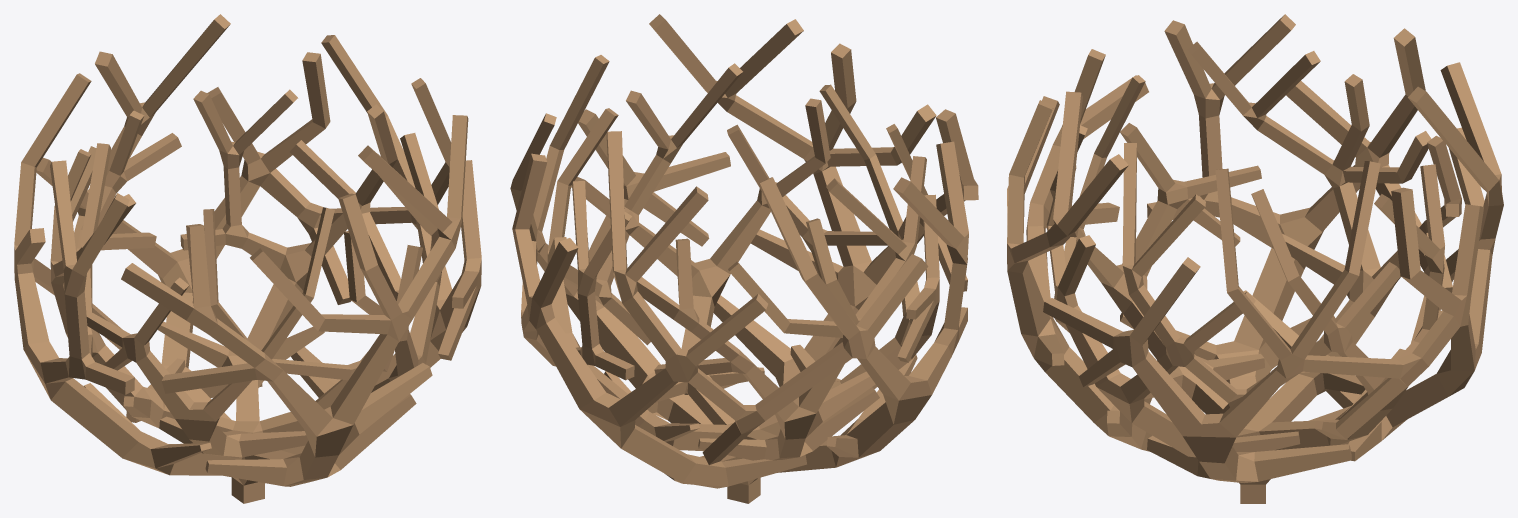
File: tumbleweed.glb
3 views of the same model, side by side, from view 1: azimuth 30°, elevation 25°; view 2: azimuth 150°, elevation 25°; view 3: azimuth 270°, elevation 25° (orthographic). The views are drawn at different scales.
Visible parts, largest first — view 1: Tumbleweed; view 2: Tumbleweed; view 3: Tumbleweed.
Boxes of the visible parts, <box> form: Tumbleweed: <box>14,14,481,503</box>; Tumbleweed: <box>510,14,978,503</box>; Tumbleweed: <box>1007,14,1503,503</box>.
Bounding box in the file's own units: 0.7719 × 0.7499 × 0.777.
